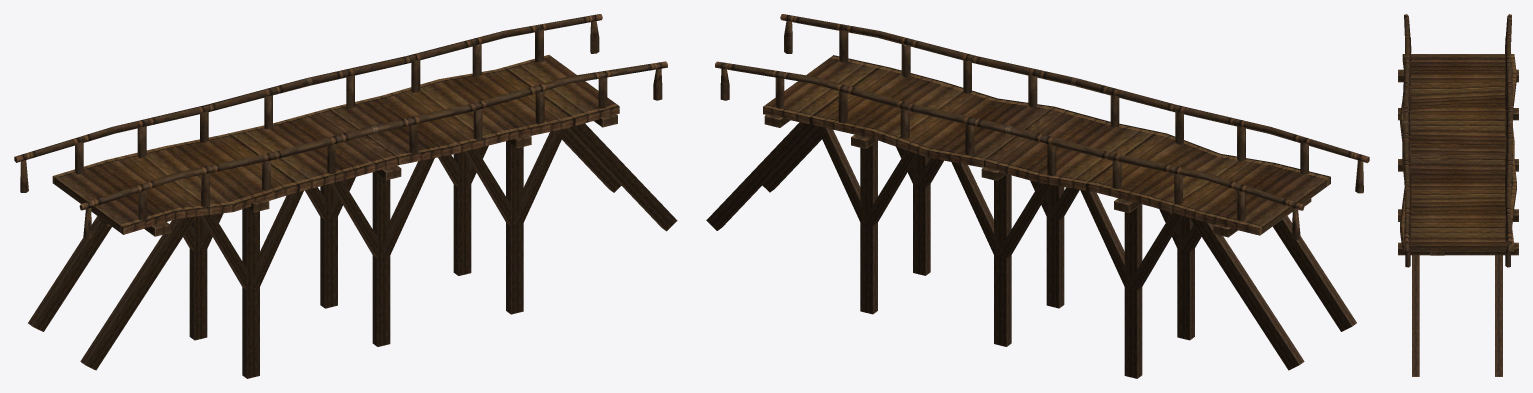
3 views of the same model, side by side, from view 1: azimuth 30°, elevation 25°; view 2: azimuth 150°, elevation 25°; view 3: azimuth 270°, elevation 25° (orthographic). The views are drawn at different scales.
Parts seen in each view (by area): view 1: Sphere01; view 2: Sphere01; view 3: Sphere01.
Boxes of the visible parts, bbox=[...] form: Sphere01: bbox=[14, 14, 677, 378]; Sphere01: bbox=[706, 14, 1369, 378]; Sphere01: bbox=[1398, 14, 1518, 376].
Size of the model in its own units: 23.79 by 8.56 by 5.24.
1 material, 1 textured.
